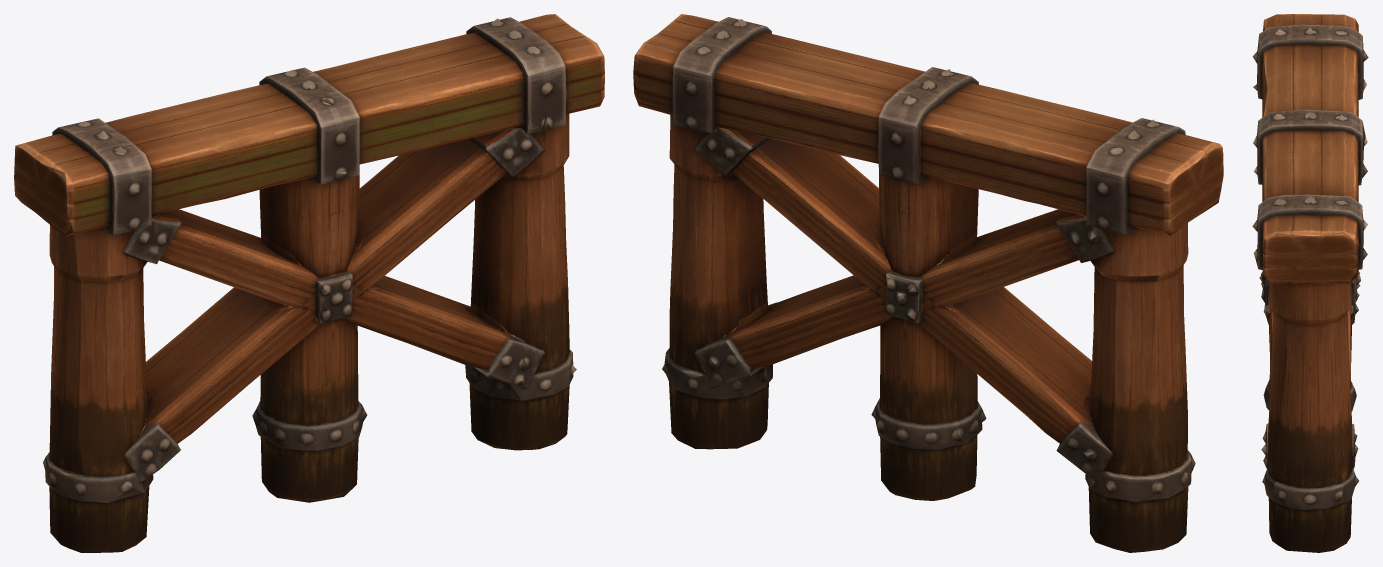
The model's file is bridge_pier.glb.
3 views of the same model, side by side, from view 1: azimuth 30°, elevation 25°; view 2: azimuth 150°, elevation 25°; view 3: azimuth 270°, elevation 25° (orthographic). The views are drawn at different scales.
Visible parts, largest first — view 1: low; view 2: low; view 3: low.
Boxes of the visible parts, box(x1,y1,x2,y2) form: low: box(14, 14, 604, 552); low: box(633, 14, 1223, 552); low: box(1252, 14, 1368, 552).
Bounding box in the file's own units: 0.9992 × 0.7176 × 0.2227.
1 material, 1 textured.
